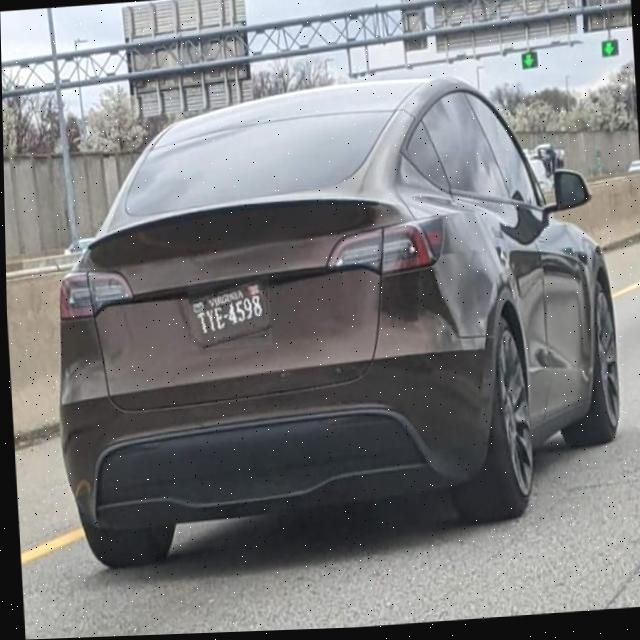LicensePlate: (188, 277, 270, 351)
